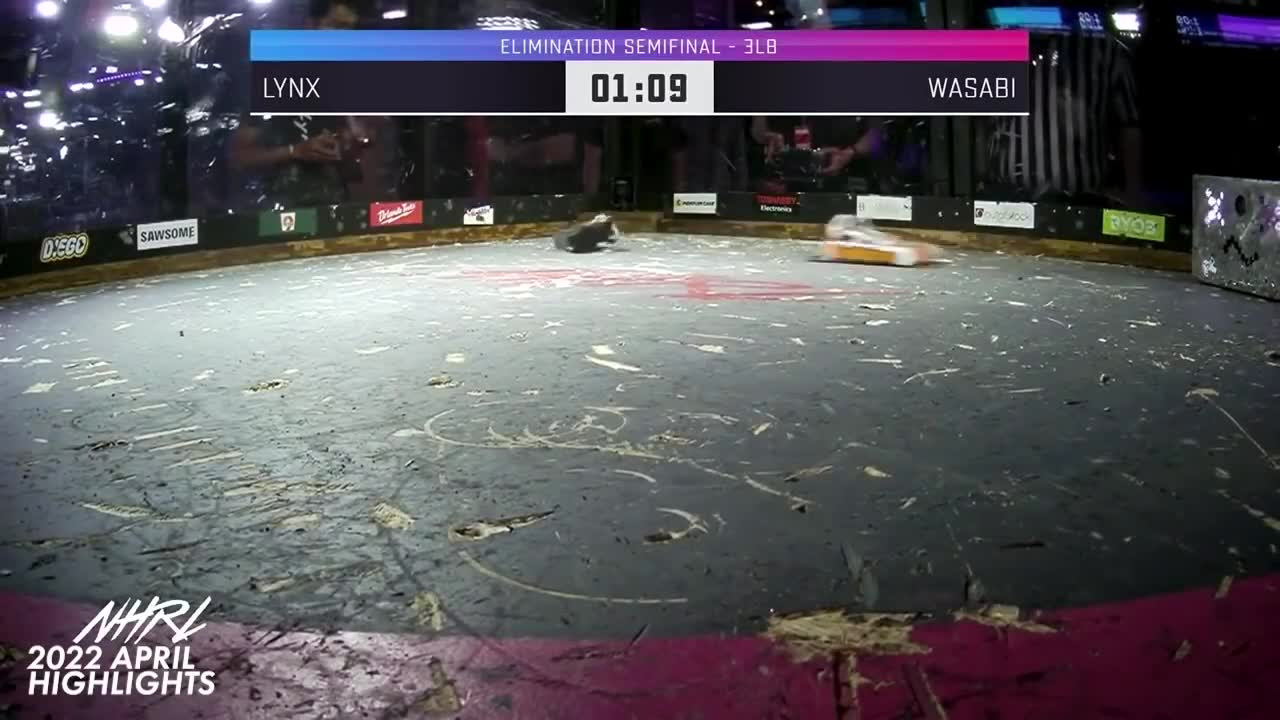combatbot: (811, 215, 951, 267), (556, 212, 630, 253)
housebot: (1189, 174, 1280, 303)
